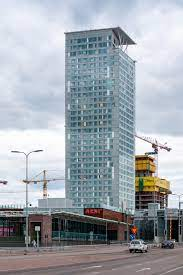high_rise_building: (60, 26, 139, 219)
